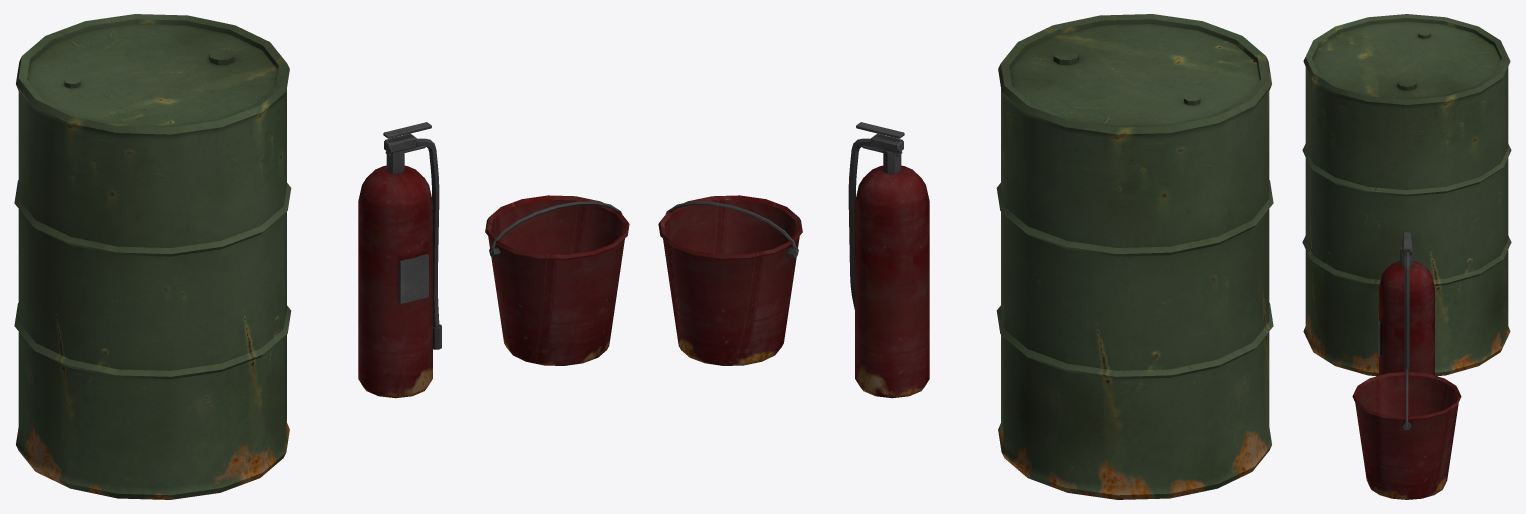
Rendered from Generarot_Room_Props_Low.fbx.
3 renders of one model, left to right at view 1: azimuth 30°, elevation 25°; view 2: azimuth 150°, elevation 25°; view 3: azimuth 270°, elevation 25°, orthographic. The views are drawn at different scales.
Visible parts, largest first — view 1: OilDrum_Low, FireBucket_Low, FireExtinguisher_Low; view 2: OilDrum_Low, FireBucket_Low, FireExtinguisher_Low; view 3: OilDrum_Low, FireBucket_Low, FireExtinguisher_Low.
Part boxes in pixels (bbox=[...]): OilDrum_Low: bbox=[14, 14, 291, 499]; FireBucket_Low: bbox=[485, 195, 629, 365]; FireExtinguisher_Low: bbox=[358, 122, 441, 398]; OilDrum_Low: bbox=[996, 14, 1273, 499]; FireBucket_Low: bbox=[658, 195, 802, 365]; FireExtinguisher_Low: bbox=[848, 122, 929, 398]; OilDrum_Low: bbox=[1302, 14, 1511, 376]; FireBucket_Low: bbox=[1352, 369, 1461, 499]; FireExtinguisher_Low: bbox=[1378, 232, 1434, 375].
Size of the model in its own units: 146 by 88 by 59.8.
